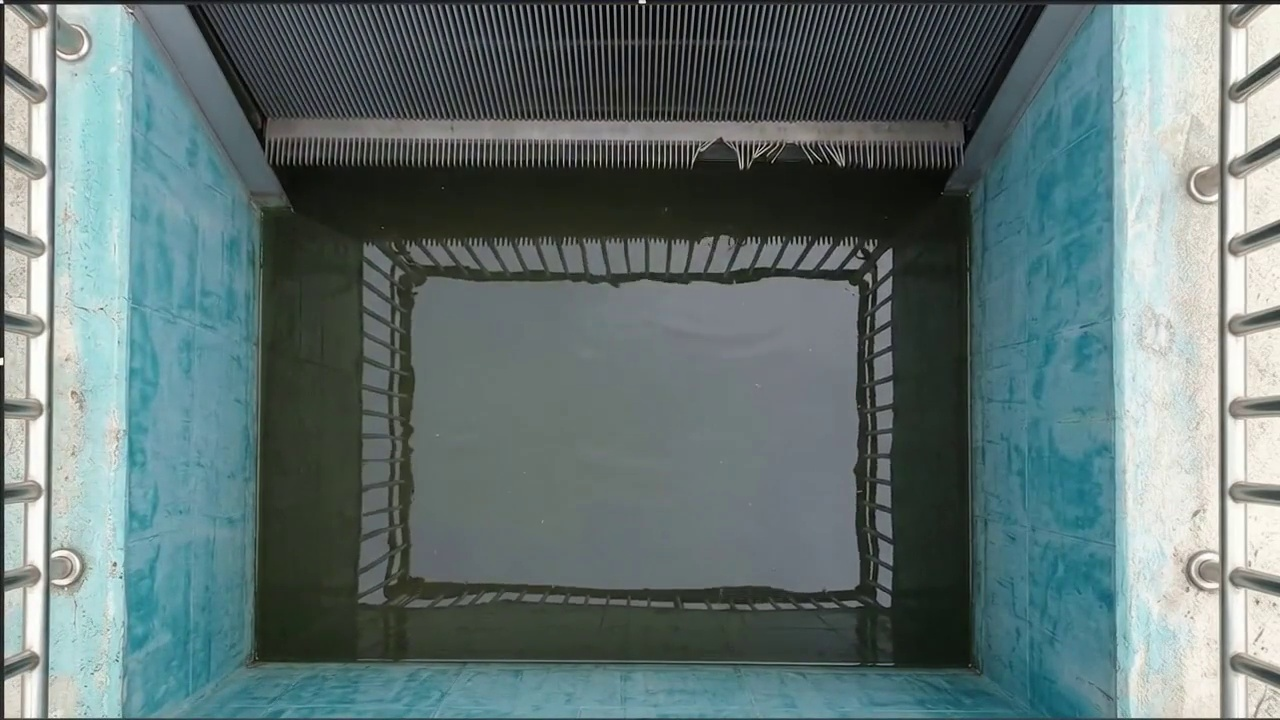damage: (684, 129, 879, 174)
